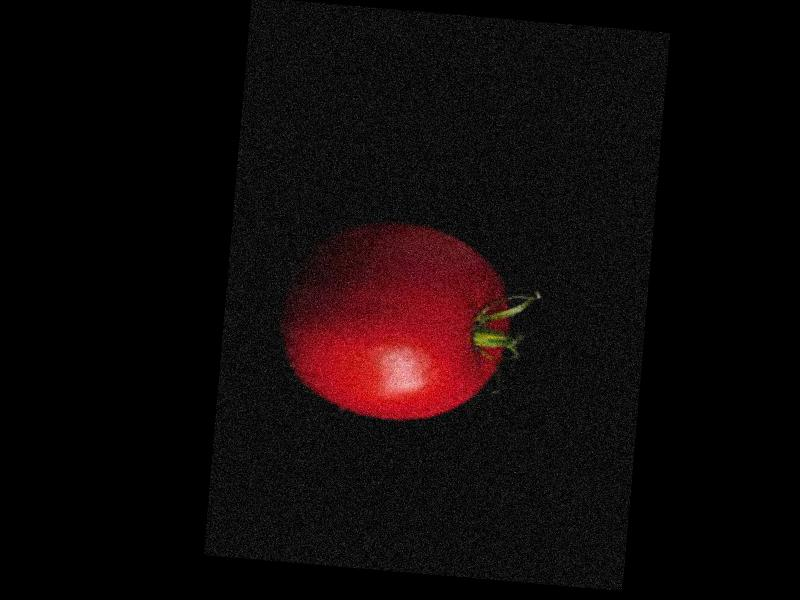Tomato: (281, 214, 517, 427)
